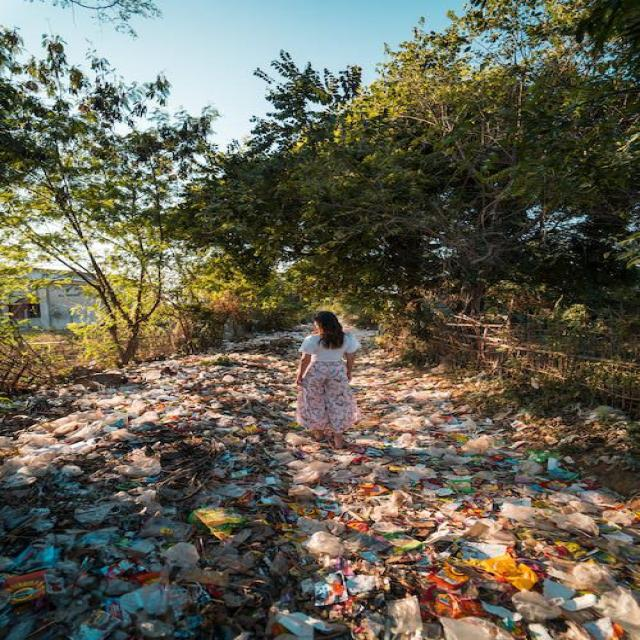trash: (46, 426, 480, 620), (503, 465, 609, 618), (144, 371, 252, 422)
